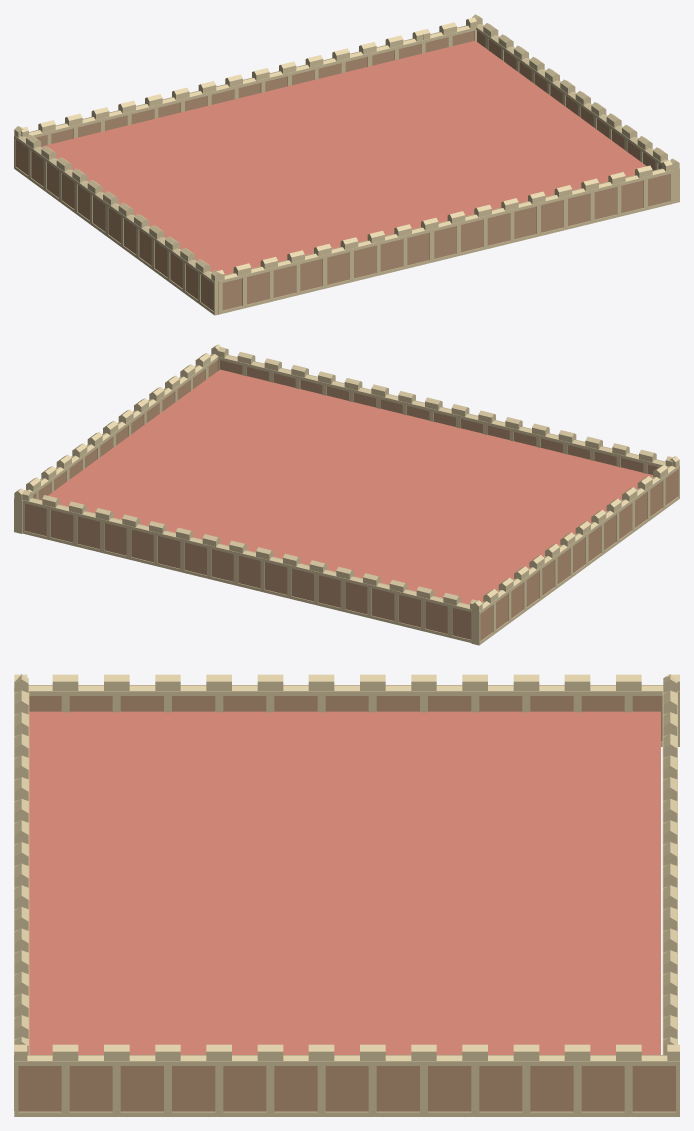
Rendered from fondos plaza.fbx.
The picture shows the model from 3 angles, top to bottom: view 1: azimuth 30°, elevation 25°; view 2: azimuth 150°, elevation 25°; view 3: azimuth 270°, elevation 25°; orthographic projection. The views are drawn at different scales.
Visible parts, largest first — view 1: Cube; view 2: Cube; view 3: Cube.
Part boxes in pixels (x1,y1,x2,y2): Cube: [14, 14, 679, 315]; Cube: [14, 344, 679, 645]; Cube: [14, 674, 679, 1116].
Bounding box in the file's own units: 976 × 83.76 × 730.
